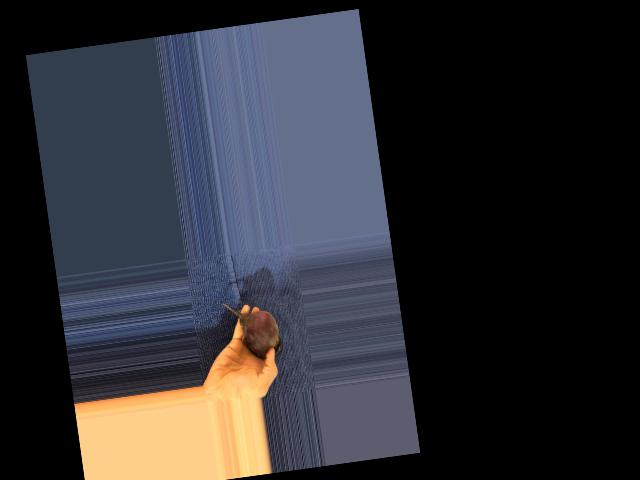beet: (221, 295, 284, 363)
